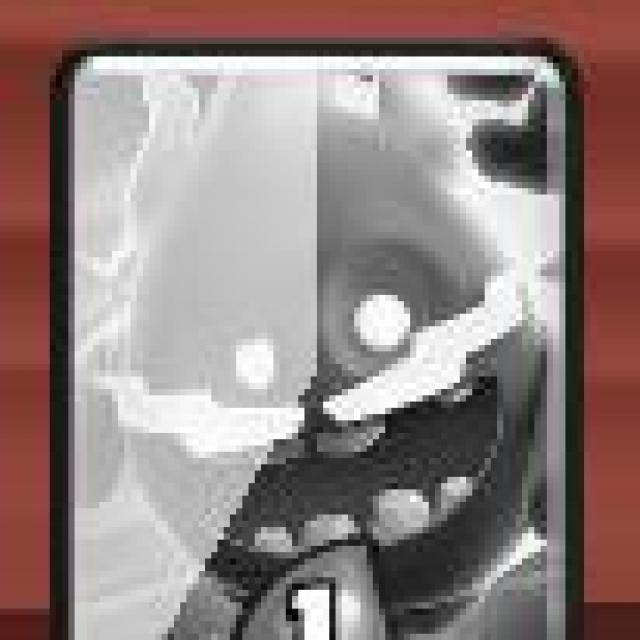Electro_Spirit: (53, 45, 586, 640)
